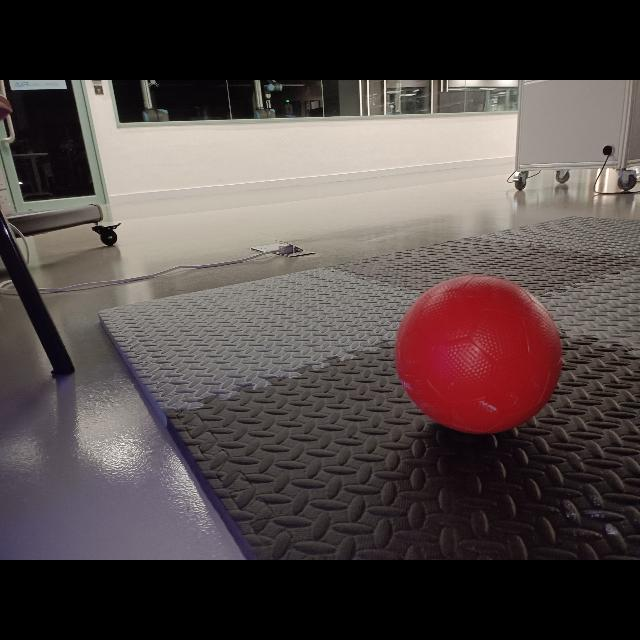R: (394, 274, 562, 436)
